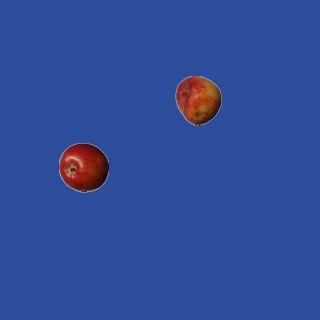Apple Braeburn: (58, 142, 108, 192)
Peach: (173, 75, 223, 125)
